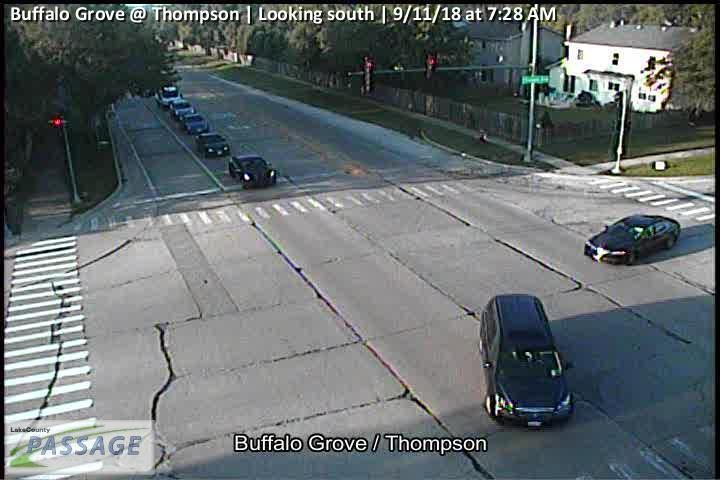SUV: (478, 294, 573, 430)
Sedan: (583, 214, 681, 264), (228, 155, 276, 188), (197, 133, 229, 156), (158, 85, 182, 106), (169, 100, 195, 119), (183, 113, 207, 133)
